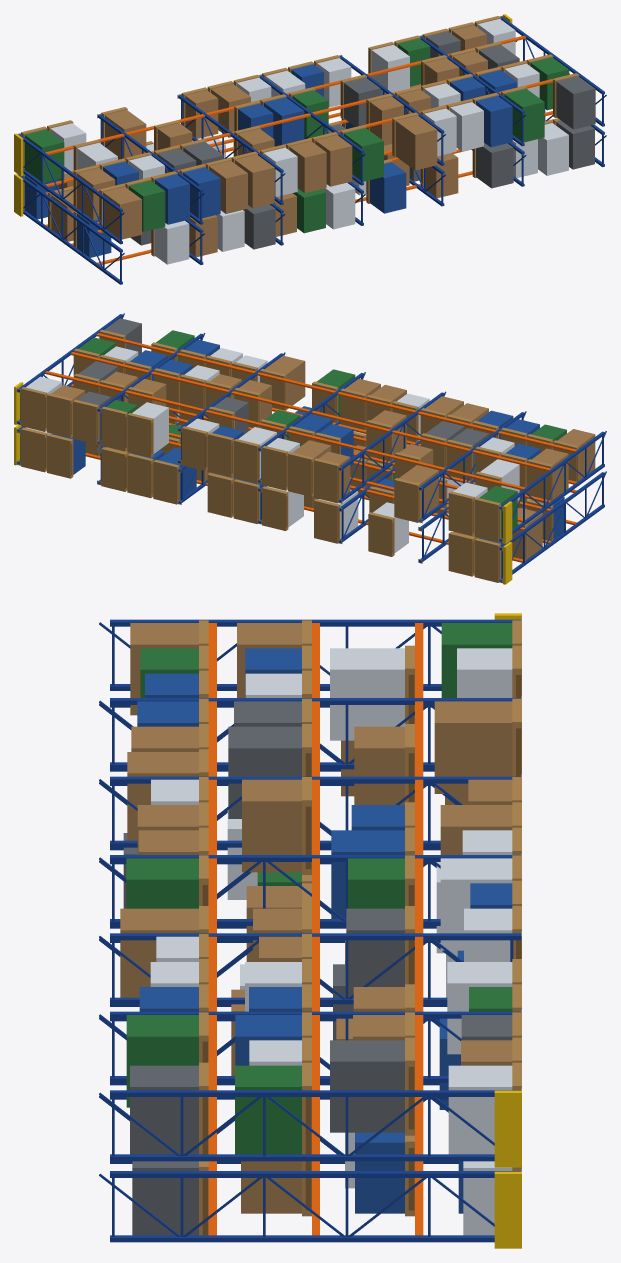
File: rack_B.obj
3 views of the same model, one above another, from view 1: azimuth 30°, elevation 25°; view 2: azimuth 150°, elevation 25°; view 3: azimuth 270°, elevation 25° (orthographic). The views are drawn at different scales.
Parts seen in each view (by area): view 1: cardboard, wrap, crate_blue, upright, crate_grey, crate_green, wood, beam, wood_dark, yellow; view 2: wood, cardboard, upright, beam, wrap, crate_blue, crate_green, crate_grey, wood_dark, yellow, steel; view 3: cardboard, upright, wrap, crate_grey, crate_green, crate_blue, wood, beam, yellow, wood_dark.
Boxes of the visible parts, x1,y1,x2,y2 form: cardboard: [51, 25, 487, 257]; wrap: [50, 19, 568, 264]; crate_blue: [24, 64, 517, 257]; upright: [18, 16, 606, 284]; crate_grey: [130, 31, 595, 249]; crate_green: [24, 38, 569, 233]; wood: [21, 16, 579, 256]; beam: [45, 35, 573, 265]; wood_dark: [47, 25, 554, 252]; yellow: [14, 14, 512, 216]; wood: [21, 329, 579, 582]; cardboard: [51, 355, 595, 558]; upright: [17, 313, 606, 582]; beam: [45, 333, 576, 562]; wrap: [25, 346, 531, 552]; crate_blue: [51, 339, 564, 577]; crate_green: [78, 330, 566, 537]; crate_grey: [78, 318, 489, 499]; wood_dark: [45, 343, 578, 578]; yellow: [14, 382, 512, 584]; steel: [16, 388, 502, 583]; cardboard: [120, 623, 512, 1213]; upright: [99, 619, 521, 1242]; wrap: [150, 648, 512, 1235]; crate_grey: [123, 701, 512, 1235]; crate_green: [126, 623, 512, 1154]; crate_blue: [137, 648, 512, 1213]; wood: [199, 620, 521, 1235]; beam: [208, 623, 423, 1235]; yellow: [494, 613, 521, 1248]; wood_dark: [202, 675, 521, 1235].
Bounding box in the file's own units: 16.52 × 2.5 × 6.16.
